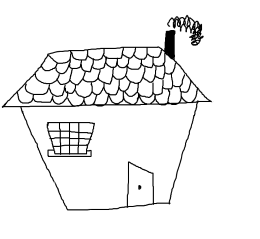closed_window: (43, 116, 97, 160)
door: (119, 157, 159, 212)
roof: (5, 44, 216, 112)
smoking_chimney: (159, 7, 206, 69)
wall: (15, 100, 206, 215)
